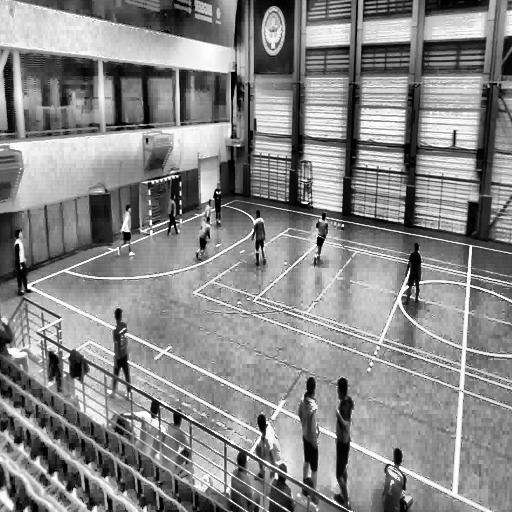ball: (340, 221, 345, 233)
player: (334, 378, 353, 512), (300, 377, 320, 491), (381, 446, 412, 512), (111, 308, 132, 397), (403, 241, 422, 304), (14, 229, 31, 296), (252, 210, 266, 267), (314, 212, 328, 265), (196, 213, 211, 262), (121, 204, 134, 257), (167, 192, 180, 237), (214, 185, 222, 225), (204, 197, 214, 224)
